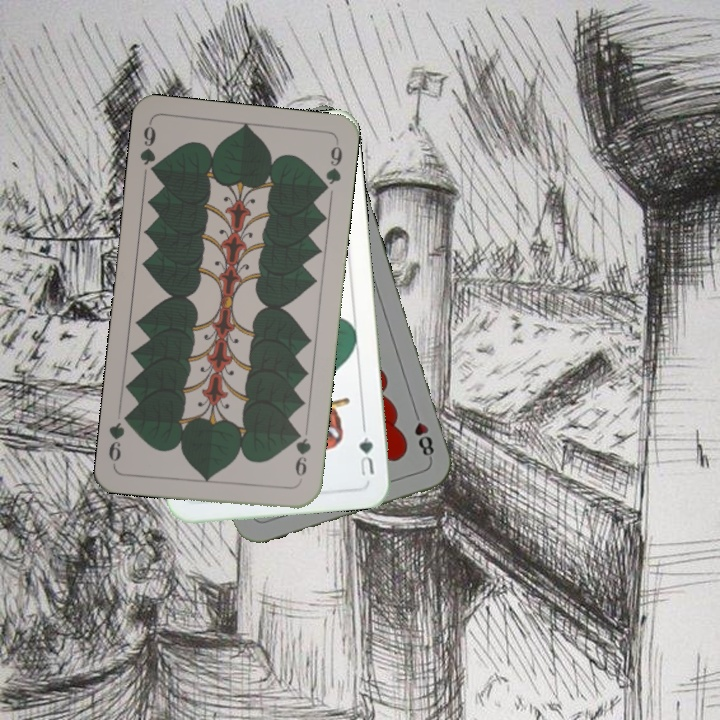G9: (135, 119, 161, 179), (291, 426, 314, 486)
GU: (354, 423, 377, 479)
H8: (409, 405, 437, 463)
